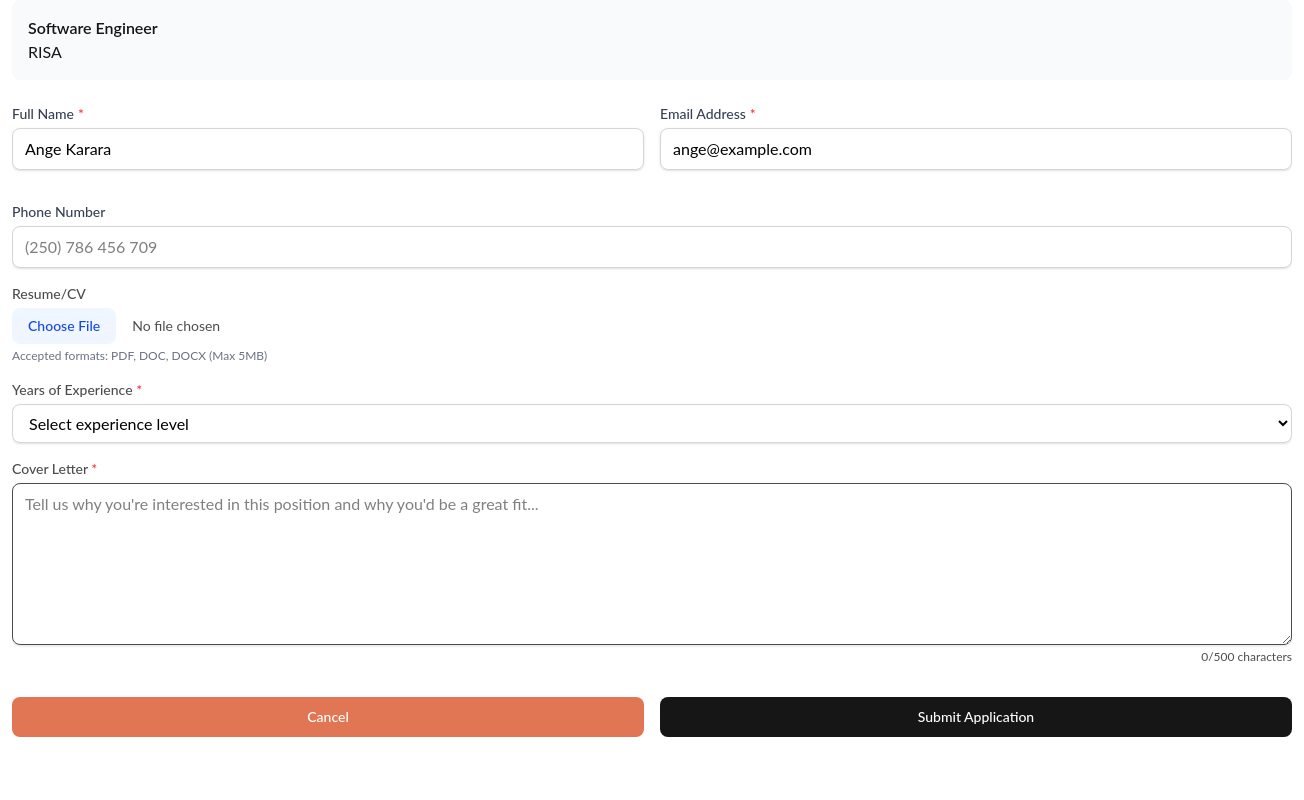
ApplicationForm › initializes form with user data and handles input changes
Expected: the field with placeholder "your.email@example.com" below "Email Address" holds "ange@example.com", top-left (660, 128), bottom-right (1292, 170)
Replace the text in the field with placeholder "Your full name" below "Full Name" with "happy Gikundiro". click: (328, 149)
box: top-left (12, 128), bottom-right (644, 170)
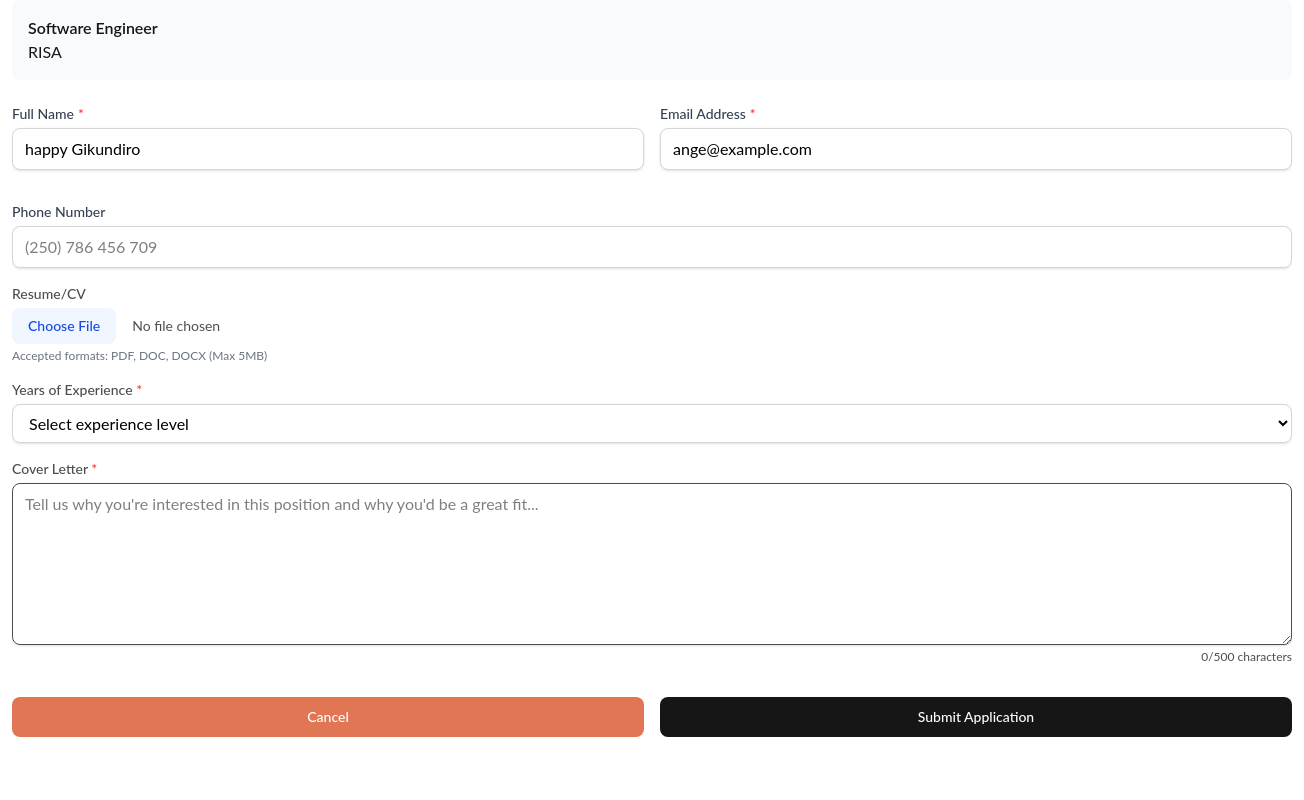
Type "+250756789067" into the field with placeholder "(250) 786 456 709". click: (652, 247)
box: top-left (12, 226), bottom-right (1292, 268)
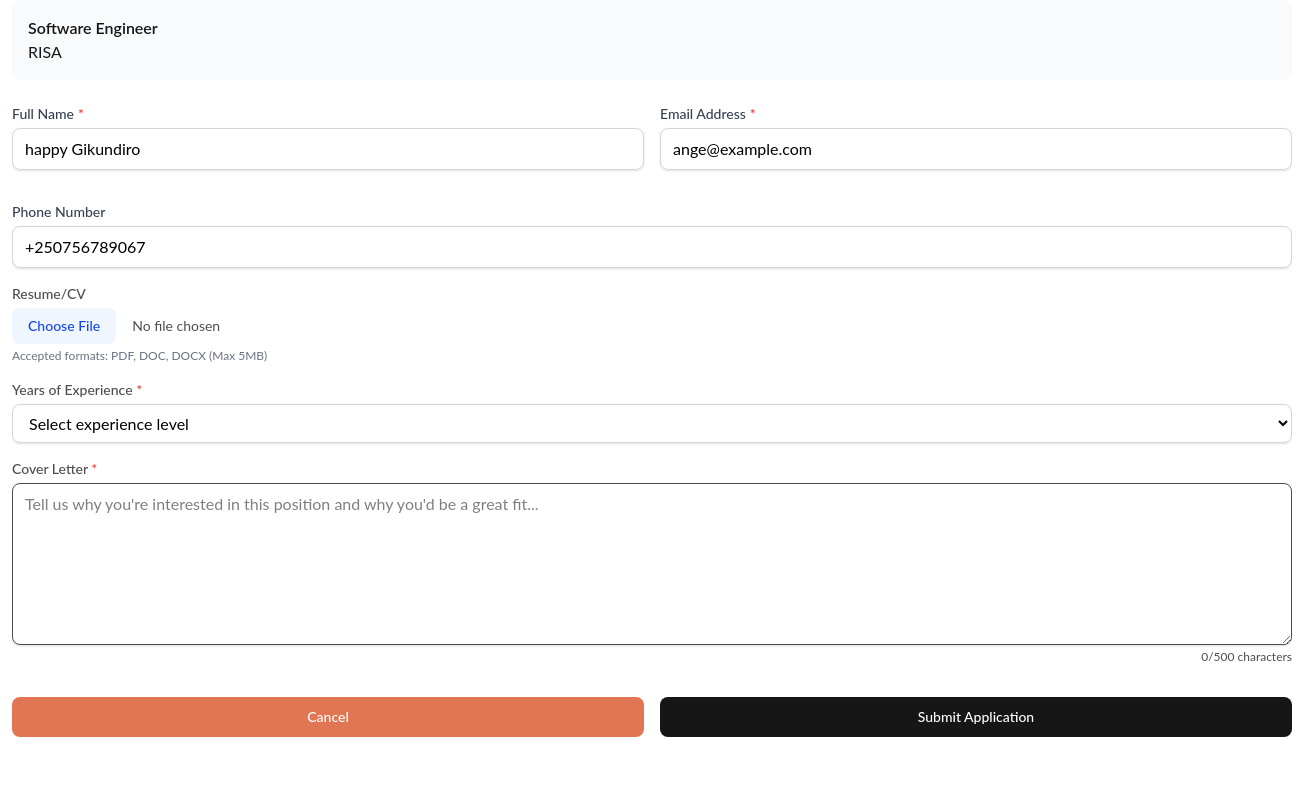
Select "4-5 years" in the dropdown showing "Select experience level". click: (652, 424)
box: top-left (12, 404), bottom-right (1292, 443)
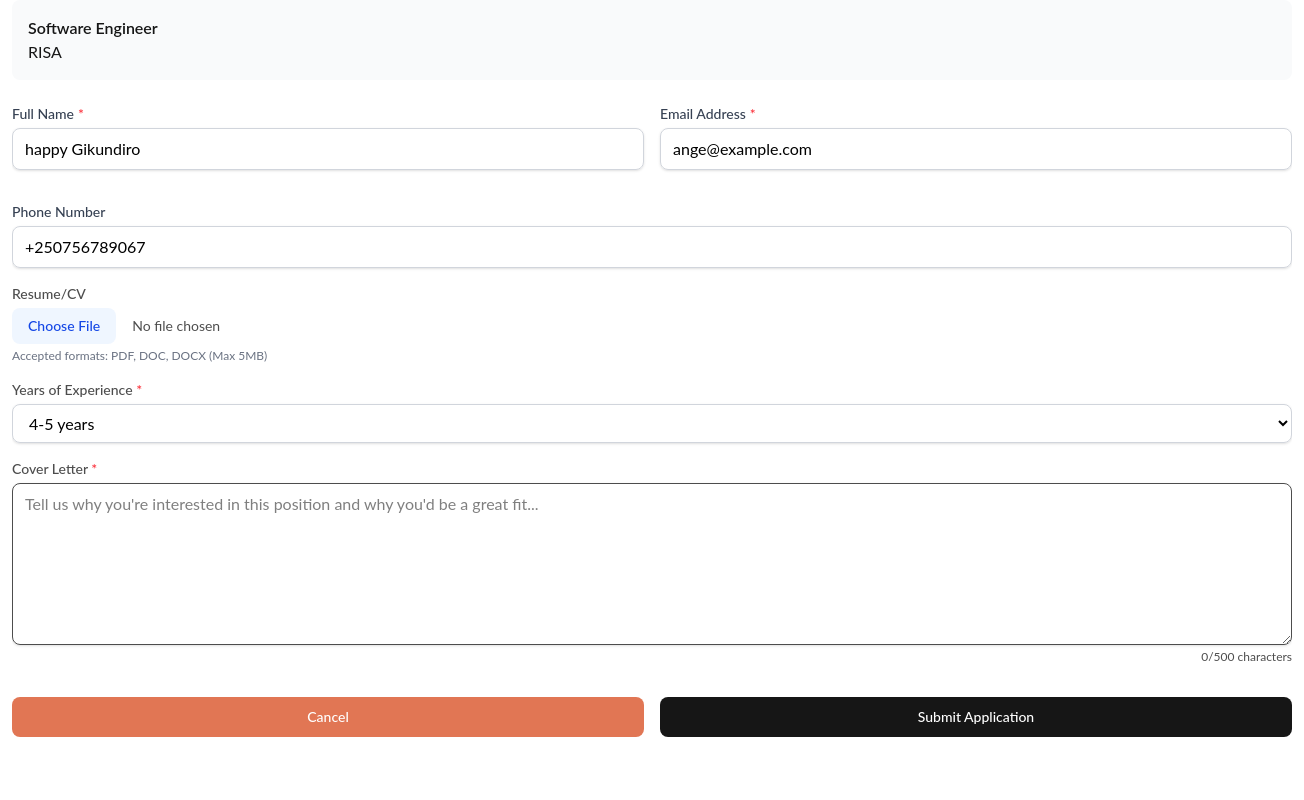
Replace the text in the text box with placeholder "Tell us why you're interested in this position" with "Hello world". click: (652, 564)
box: top-left (12, 483), bottom-right (1292, 645)
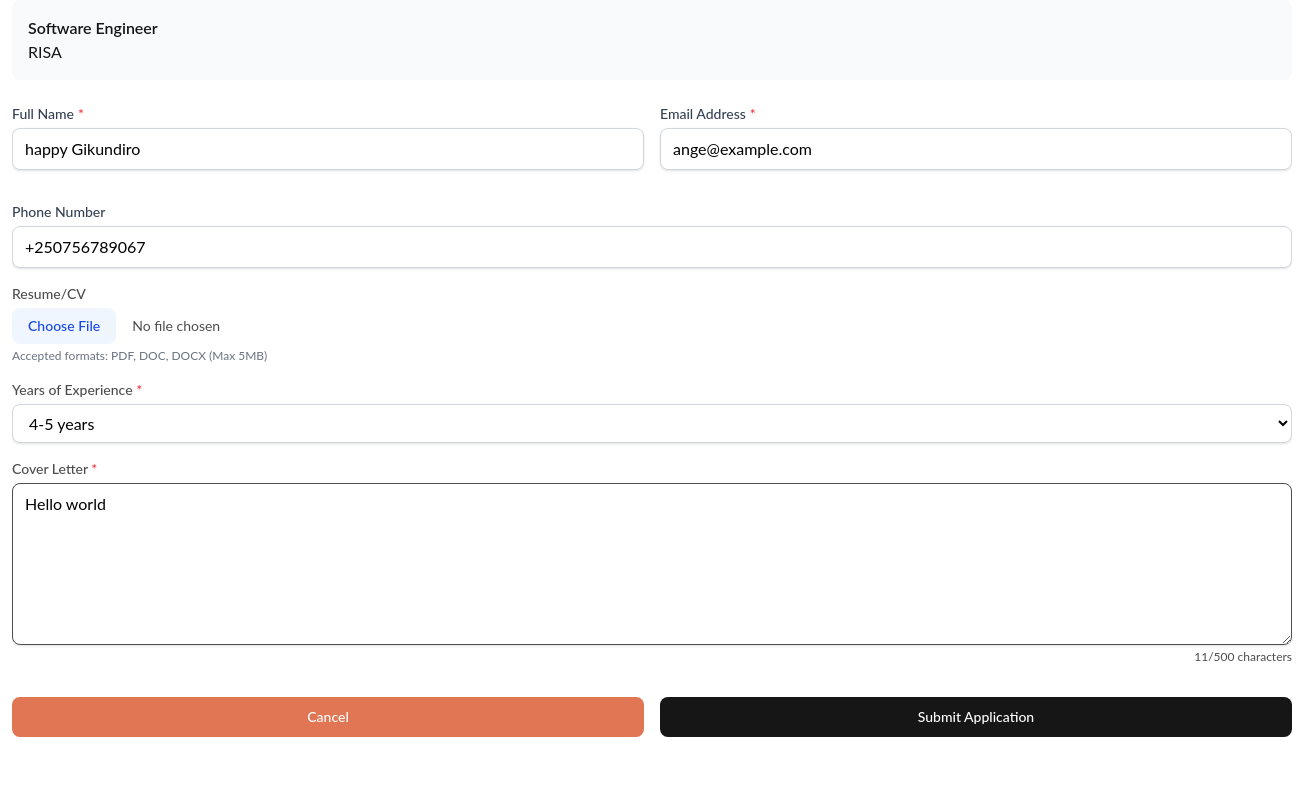
Expected: the text "11/500 characters" is shown, top-left (1194, 649), bottom-right (1292, 665)
